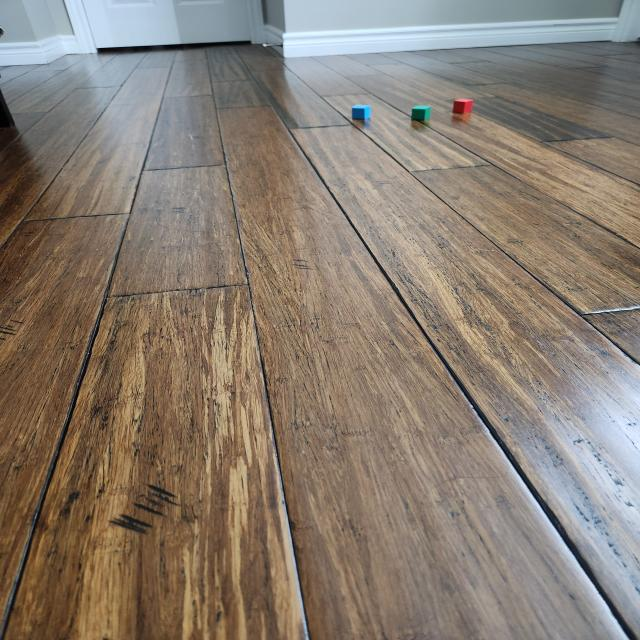bluecube: (352, 104, 371, 120)
green cube: (412, 105, 432, 120)
red cube: (454, 97, 473, 114)
